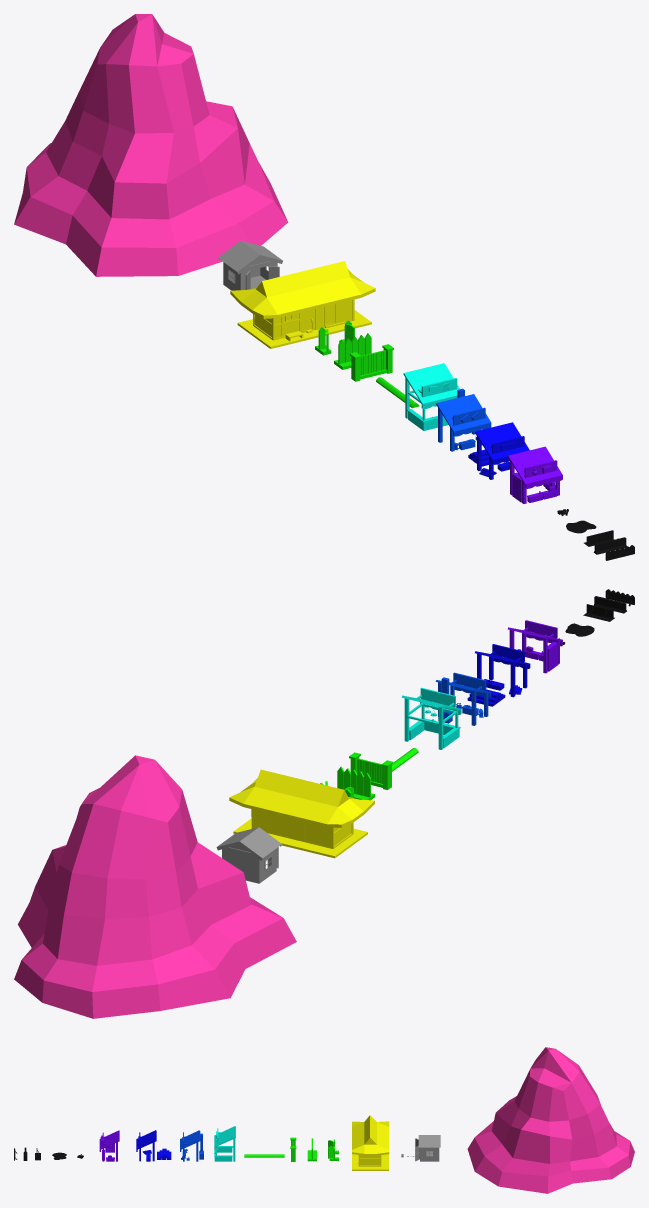
Rendered from build_FBX.fbx.
3 views of the same model, one above another, from view 1: azimuth 30°, elevation 25°; view 2: azimuth 150°, elevation 25°; view 3: azimuth 270°, elevation 25° (orthographic). The views are drawn at different scales.
Visible parts, largest first — view 1: stone mountain, house1, butcher shop, variety store, hardware store, processing shop, house3, house2, Dummy003, storage2, storage3, Dummy002; view 2: stone mountain, house1, butcher shop, house2, processing shop, variety store, hardware store, storage3, storage2, house3, Dummy003, Dummy002; view 3: stone mountain, house1, butcher shop, processing shop, hardware store, variety store, house3, storage2, storage3, house2.
Boxes of the visible parts, left/top/right/bottom form: stone mountain: left=14, top=14, right=288, bottom=276; house1: left=230, top=261, right=375, bottom=318; butcher shop: left=403, top=363, right=459, bottom=430; variety store: left=508, top=446, right=562, bottom=503; hardware store: left=436, top=388, right=491, bottom=451; processing shop: left=468, top=422, right=529, bottom=479; house3: left=237, top=301, right=371, bottom=348; house2: left=253, top=299, right=354, bottom=340; Dummy003: left=350, top=344, right=393, bottom=381; storage2: left=218, top=241, right=282, bottom=274; storage3: left=223, top=258, right=277, bottom=290; Dummy002: left=334, top=333, right=371, bottom=369; stone mountain: left=14, top=755, right=296, bottom=1018; house1: left=229, top=769, right=374, bottom=827; butcher shop: left=401, top=687, right=461, bottom=749; house2: left=251, top=809, right=353, bottom=848; processing shop: left=467, top=644, right=530, bottom=706; variety store: left=508, top=620, right=562, bottom=673; hardware store: left=435, top=672, right=491, bottom=725; storage3: left=222, top=844, right=276, bottom=883; storage2: left=216, top=827, right=281, bottom=860; house3: left=233, top=818, right=367, bottom=858; Dummy003: left=349, top=752, right=393, bottom=789; Dummy002: left=337, top=766, right=374, bottom=800; stone mountain: left=467, top=1047, right=634, bottom=1193; house1: left=352, top=1115, right=389, bottom=1155; butcher shop: left=214, top=1126, right=235, bottom=1161; processing shop: left=136, top=1130, right=171, bottom=1161; hardware store: left=180, top=1130, right=203, bottom=1161; variety store: left=99, top=1130, right=119, bottom=1161; house3: left=352, top=1154, right=388, bottom=1170; storage2: left=418, top=1135, right=440, bottom=1147; storage3: left=420, top=1147, right=439, bottom=1161; house2: left=357, top=1155, right=381, bottom=1166.
Size of the model in its own units: 154 by 124 by 631.
